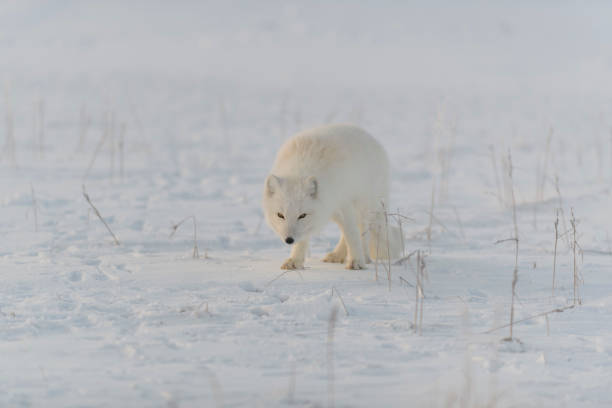arcticfox: (269, 188, 318, 252)
